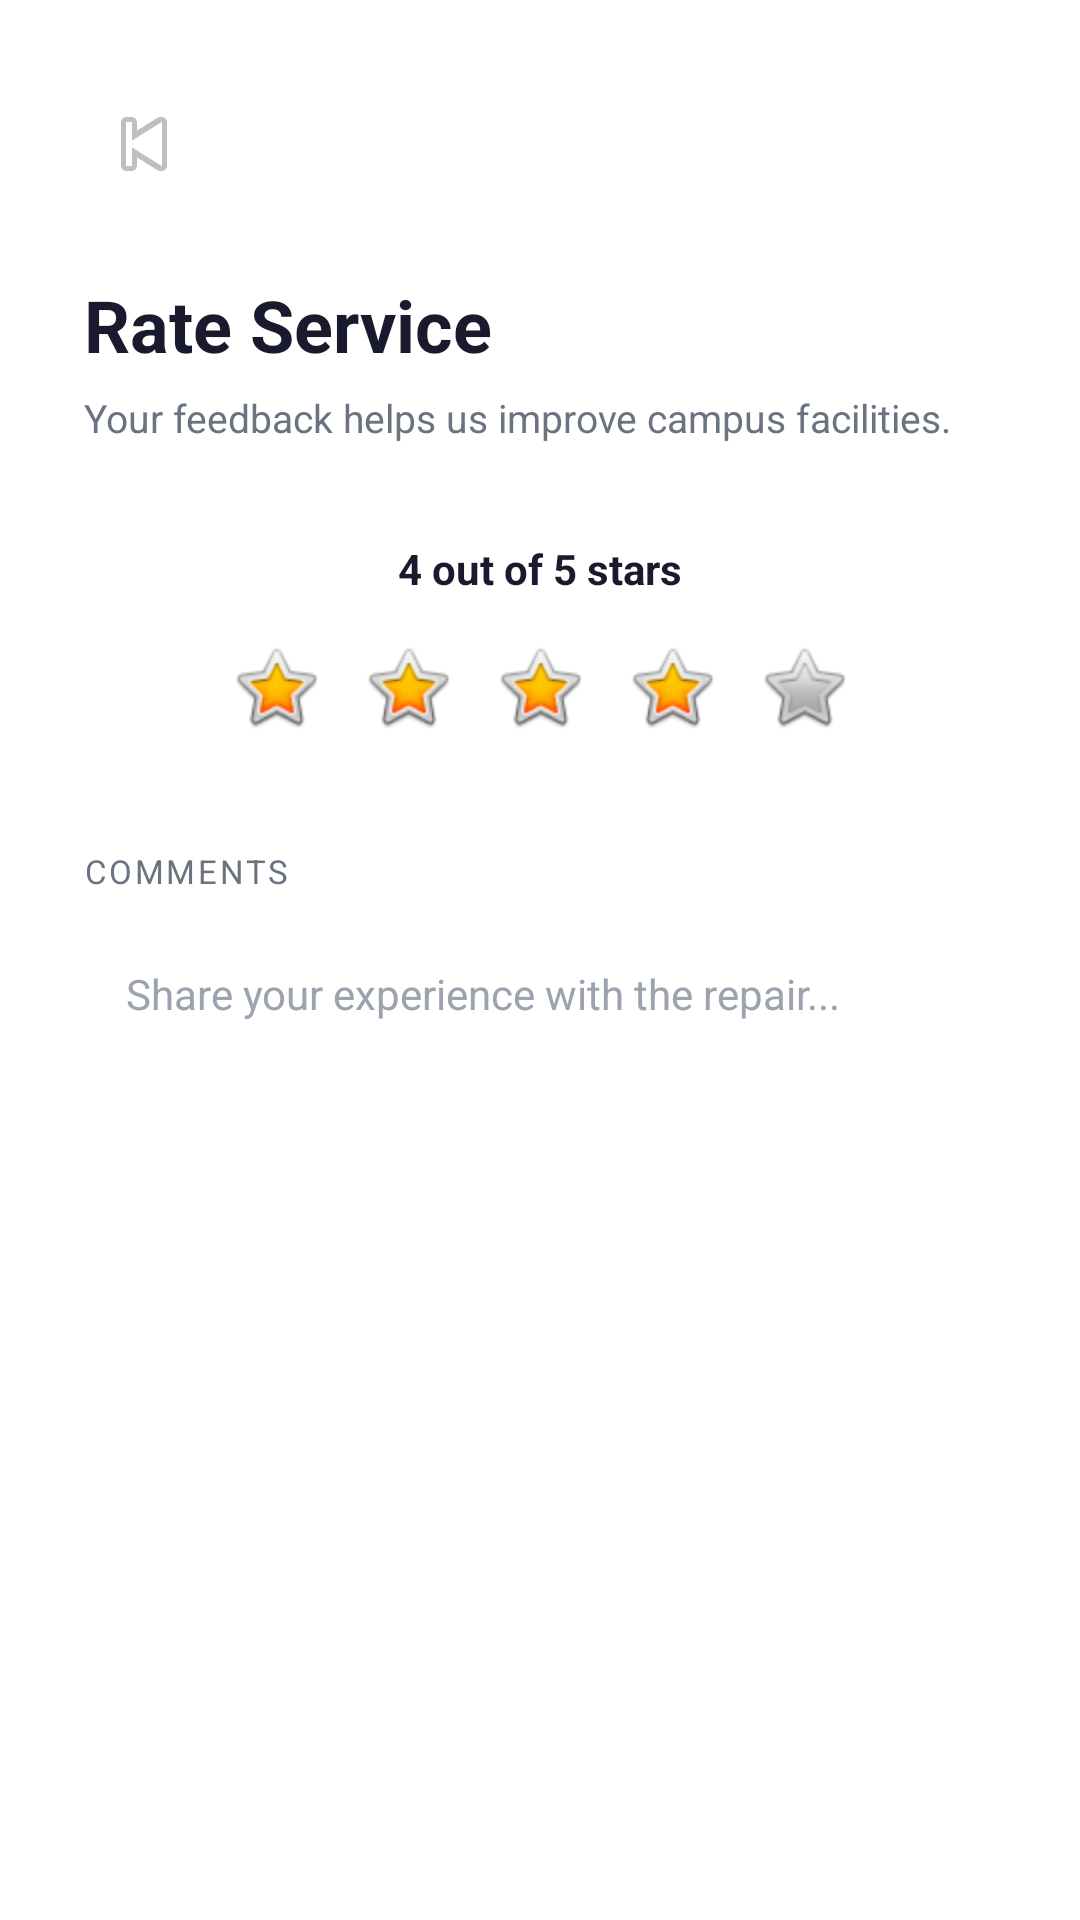

Icon click points for this 1080px×1920px phone screenshot, format (x,y):
Back: (144,144)
Star 1: (277,688)
Star 2: (409,688)
Star 3: (541,688)
Star 4: (673,688)
Star 5: (805,688)
